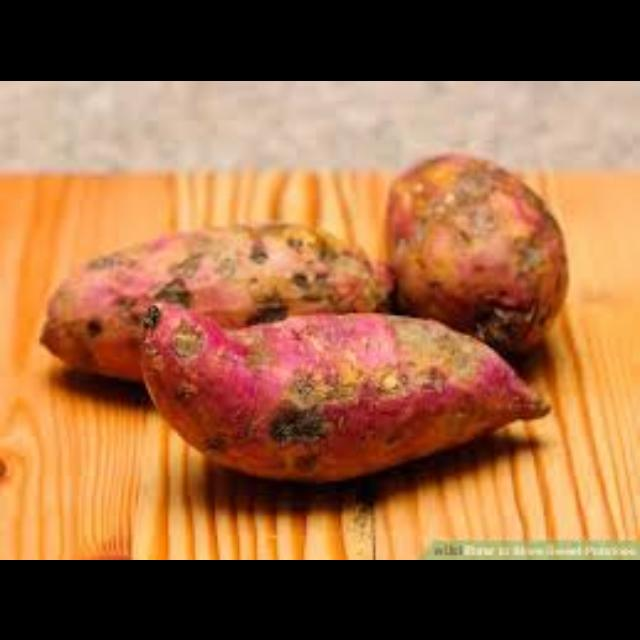Defected potato: (122, 274, 574, 500), (35, 210, 401, 390), (390, 137, 578, 371)
